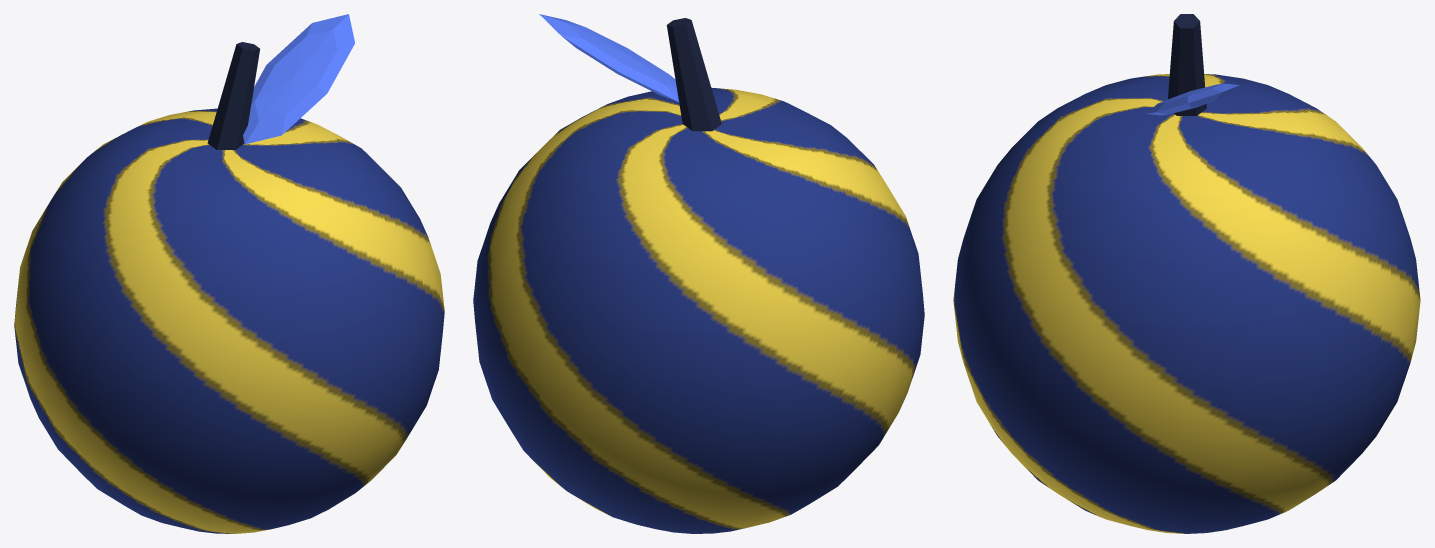
Rendered from Fruit_GoroGoro.fbx.
3 views of the same model, side by side, from view 1: azimuth 30°, elevation 25°; view 2: azimuth 150°, elevation 25°; view 3: azimuth 270°, elevation 25° (orthographic). The views are drawn at different scales.
Visible parts, largest first — view 1: Fruit_GoroGoro; view 2: Fruit_GoroGoro; view 3: Fruit_GoroGoro.
Boxes of the visible parts, x1,y1,x2,y2 form: Fruit_GoroGoro: (14,14,444,533); Fruit_GoroGoro: (473,14,924,533); Fruit_GoroGoro: (953,14,1420,533).
Size of the model in its own units: 1.6 by 1.9 by 1.6.
Materials: 1 (1 with a texture image).
